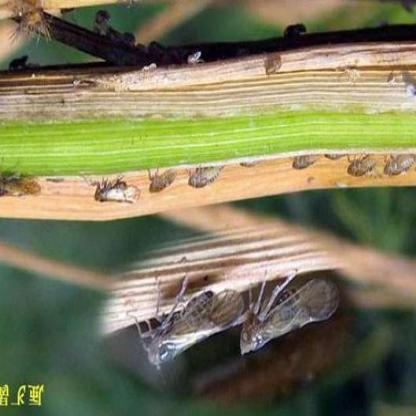brown-planthopper: (132, 274, 234, 368), (240, 268, 350, 355), (90, 181, 140, 205), (1, 174, 39, 200), (187, 166, 227, 190), (383, 156, 416, 180), (148, 170, 180, 194), (346, 156, 378, 178), (264, 55, 282, 79)
